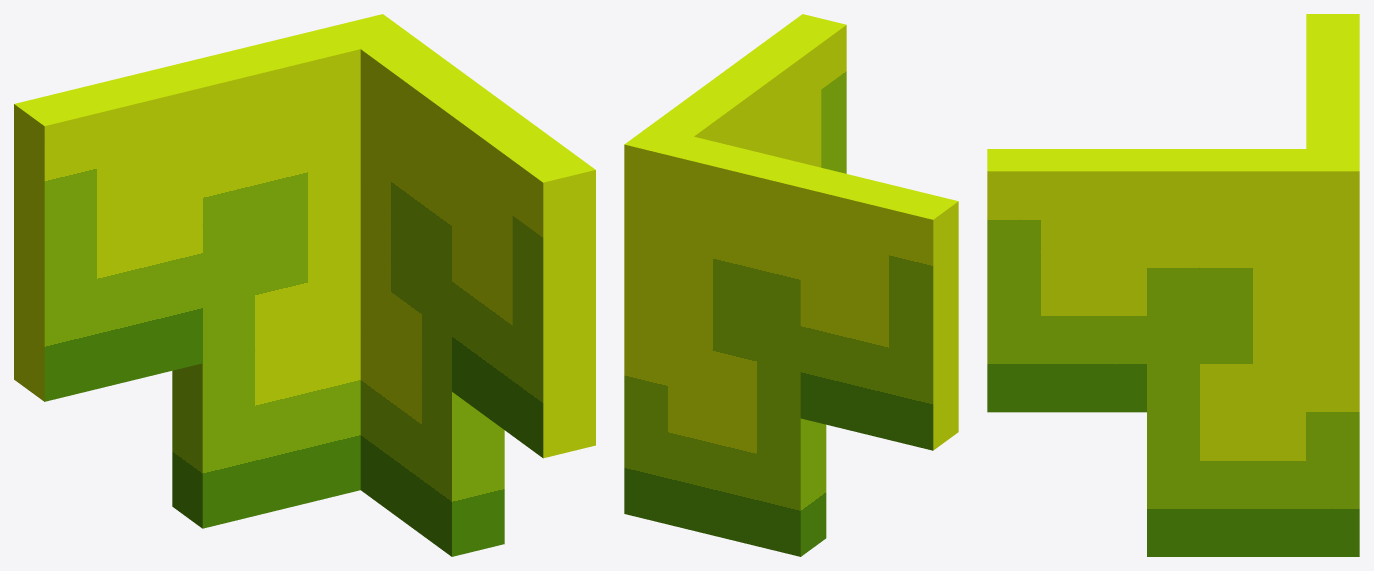
The model's file is ledge_bao.fezao.glb.
3 views of the same model, side by side, from view 1: azimuth 30°, elevation 25°; view 2: azimuth 150°, elevation 25°; view 3: azimuth 270°, elevation 25° (orthographic). The views are drawn at different scales.
Visible parts, largest first — view 1: LEDGE_BAO; view 2: LEDGE_BAO; view 3: LEDGE_BAO.
Part boxes in pixels (x1=…): LEDGE_BAO: x1=14, y1=14, x2=595, y2=556; LEDGE_BAO: x1=624, y1=14, x2=958, y2=556; LEDGE_BAO: x1=987, y1=14, x2=1359, y2=556.
Size of the model in its own units: 0.4375 by 0.5 by 0.4375.
Materials: 1 (1 with a texture image).
